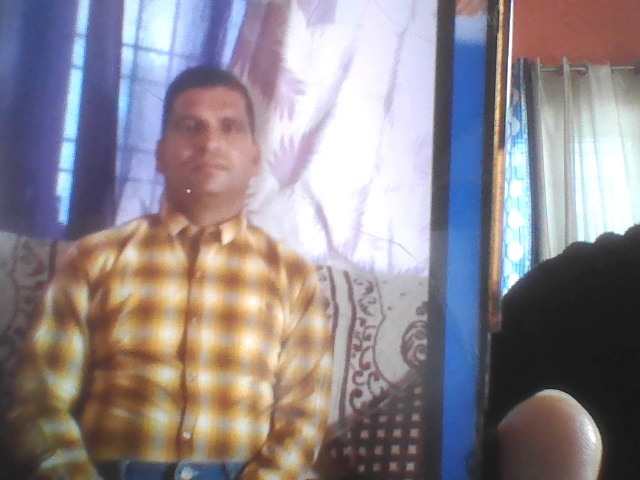fake: (158, 48, 269, 206)
